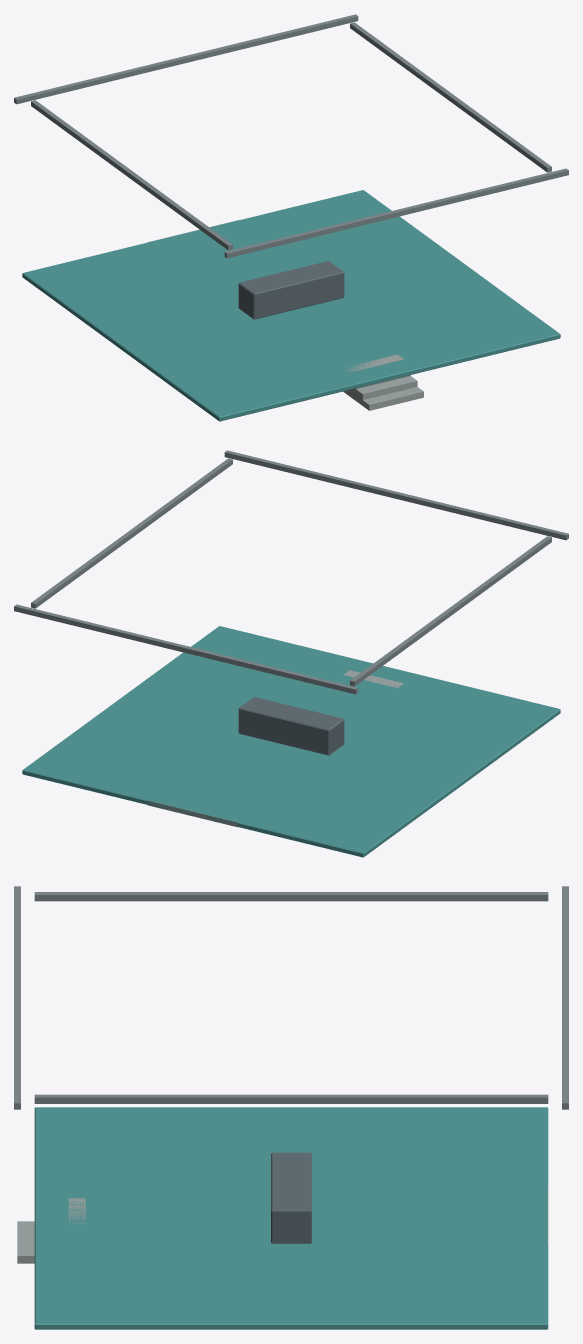
Rendered from saltglass_shop_platform_sw_graybox.glb.
3 views of the same model, one above another, from view 1: azimuth 30°, elevation 25°; view 2: azimuth 150°, elevation 25°; view 3: azimuth 270°, elevation 25° (orthographic). The views are drawn at different scales.
Visible parts, largest first — view 1: SGC_Platform_Shop_SW_15x15, SGC_Prop_ShopCounter_Centered, SGC_Ceiling_TierB_7m_N, SGC_Ceiling_TierB_7m_S, SGC_Ceiling_TierB_7m_W, SGC_Ceiling_TierB_7m_E, SGC_Approach_Stair_Secondary_ChokeB_02, SGC_Approach_Stair_Secondary_ChokeB_01; view 2: SGC_Platform_Shop_SW_15x15, SGC_Prop_ShopCounter_Centered, SGC_Ceiling_TierB_7m_N, SGC_Ceiling_TierB_7m_S, SGC_Ceiling_TierB_7m_W, SGC_Ceiling_TierB_7m_E, SGC_Approach_Ramp_Primary_ChokeC; view 3: SGC_Platform_Shop_SW_15x15, SGC_Ceiling_TierB_7m_W, SGC_Ceiling_TierB_7m_E, SGC_Prop_ShopCounter_Centered, SGC_Ceiling_TierB_7m_N, SGC_Ceiling_TierB_7m_S, SGC_Approach_Stair_Secondary_ChokeB_01.
Boxes of the visible parts, x1=… form: SGC_Platform_Shop_SW_15x15: x1=22, y1=190, x2=560, y2=421; SGC_Prop_ShopCounter_Centered: x1=238, y1=261, x2=344, y2=319; SGC_Ceiling_TierB_7m_N: x1=14, y1=14, x2=358, y2=104; SGC_Ceiling_TierB_7m_S: x1=224, y1=168, x2=568, y2=258; SGC_Ceiling_TierB_7m_W: x1=31, y1=100, x2=232, y2=250; SGC_Ceiling_TierB_7m_E: x1=350, y1=22, x2=551, y2=172; SGC_Approach_Stair_Secondary_ChokeB_02: x1=356, y1=376, x2=417, y2=405; SGC_Approach_Stair_Secondary_ChokeB_01: x1=363, y1=387, x2=423, y2=410; SGC_Platform_Shop_SW_15x15: x1=22, y1=626, x2=560, y2=857; SGC_Prop_ShopCounter_Centered: x1=238, y1=697, x2=344, y2=755; SGC_Ceiling_TierB_7m_N: x1=14, y1=604, x2=358, y2=694; SGC_Ceiling_TierB_7m_S: x1=224, y1=450, x2=568, y2=540; SGC_Ceiling_TierB_7m_W: x1=350, y1=536, x2=551, y2=686; SGC_Ceiling_TierB_7m_E: x1=31, y1=458, x2=232, y2=608; SGC_Approach_Ramp_Primary_ChokeC: x1=147, y1=800, x2=238, y2=827; SGC_Platform_Shop_SW_15x15: x1=34, y1=1107, x2=548, y2=1329; SGC_Ceiling_TierB_7m_W: x1=34, y1=892, x2=548, y2=901; SGC_Ceiling_TierB_7m_E: x1=34, y1=1094, x2=548, y2=1103; SGC_Prop_ShopCounter_Centered: x1=271, y1=1152, x2=311, y2=1243; SGC_Ceiling_TierB_7m_N: x1=562, y1=886, x2=568, y2=1109; SGC_Ceiling_TierB_7m_S: x1=14, y1=886, x2=20, y2=1109; SGC_Approach_Stair_Secondary_ChokeB_01: x1=17, y1=1221, x2=34, y2=1263.
Size of the model in its own units: 15 by 8.3 by 16.2.
